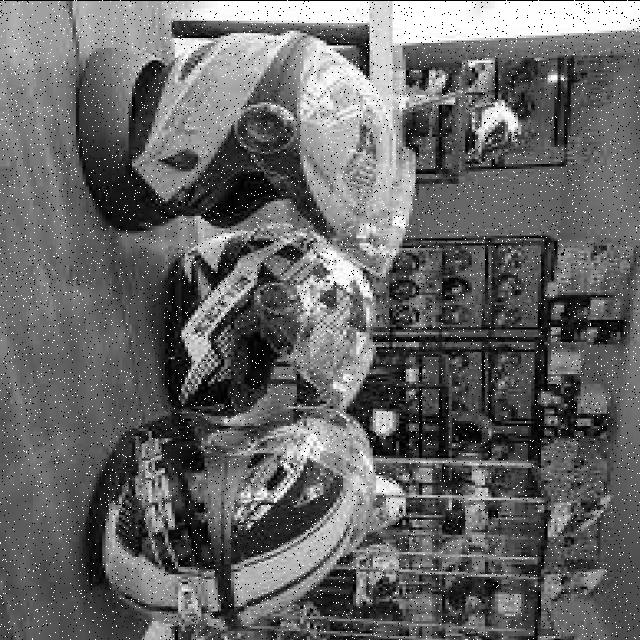Helmet: (61, 25, 420, 632)
